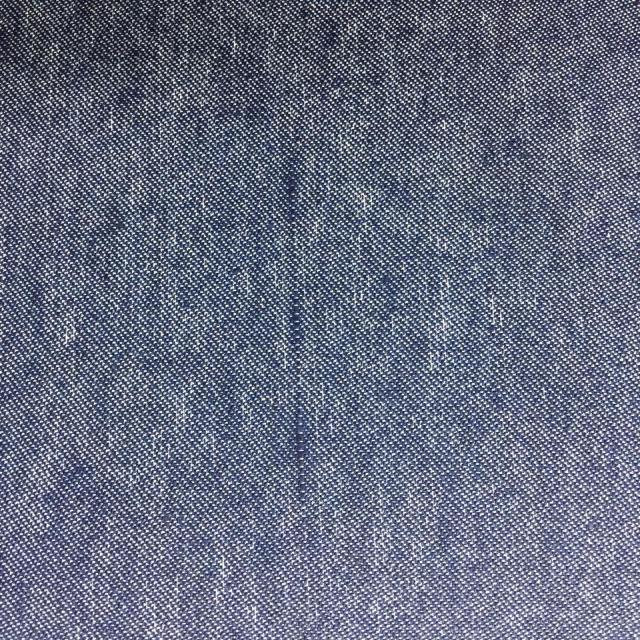Line: (281, 154, 308, 514)
